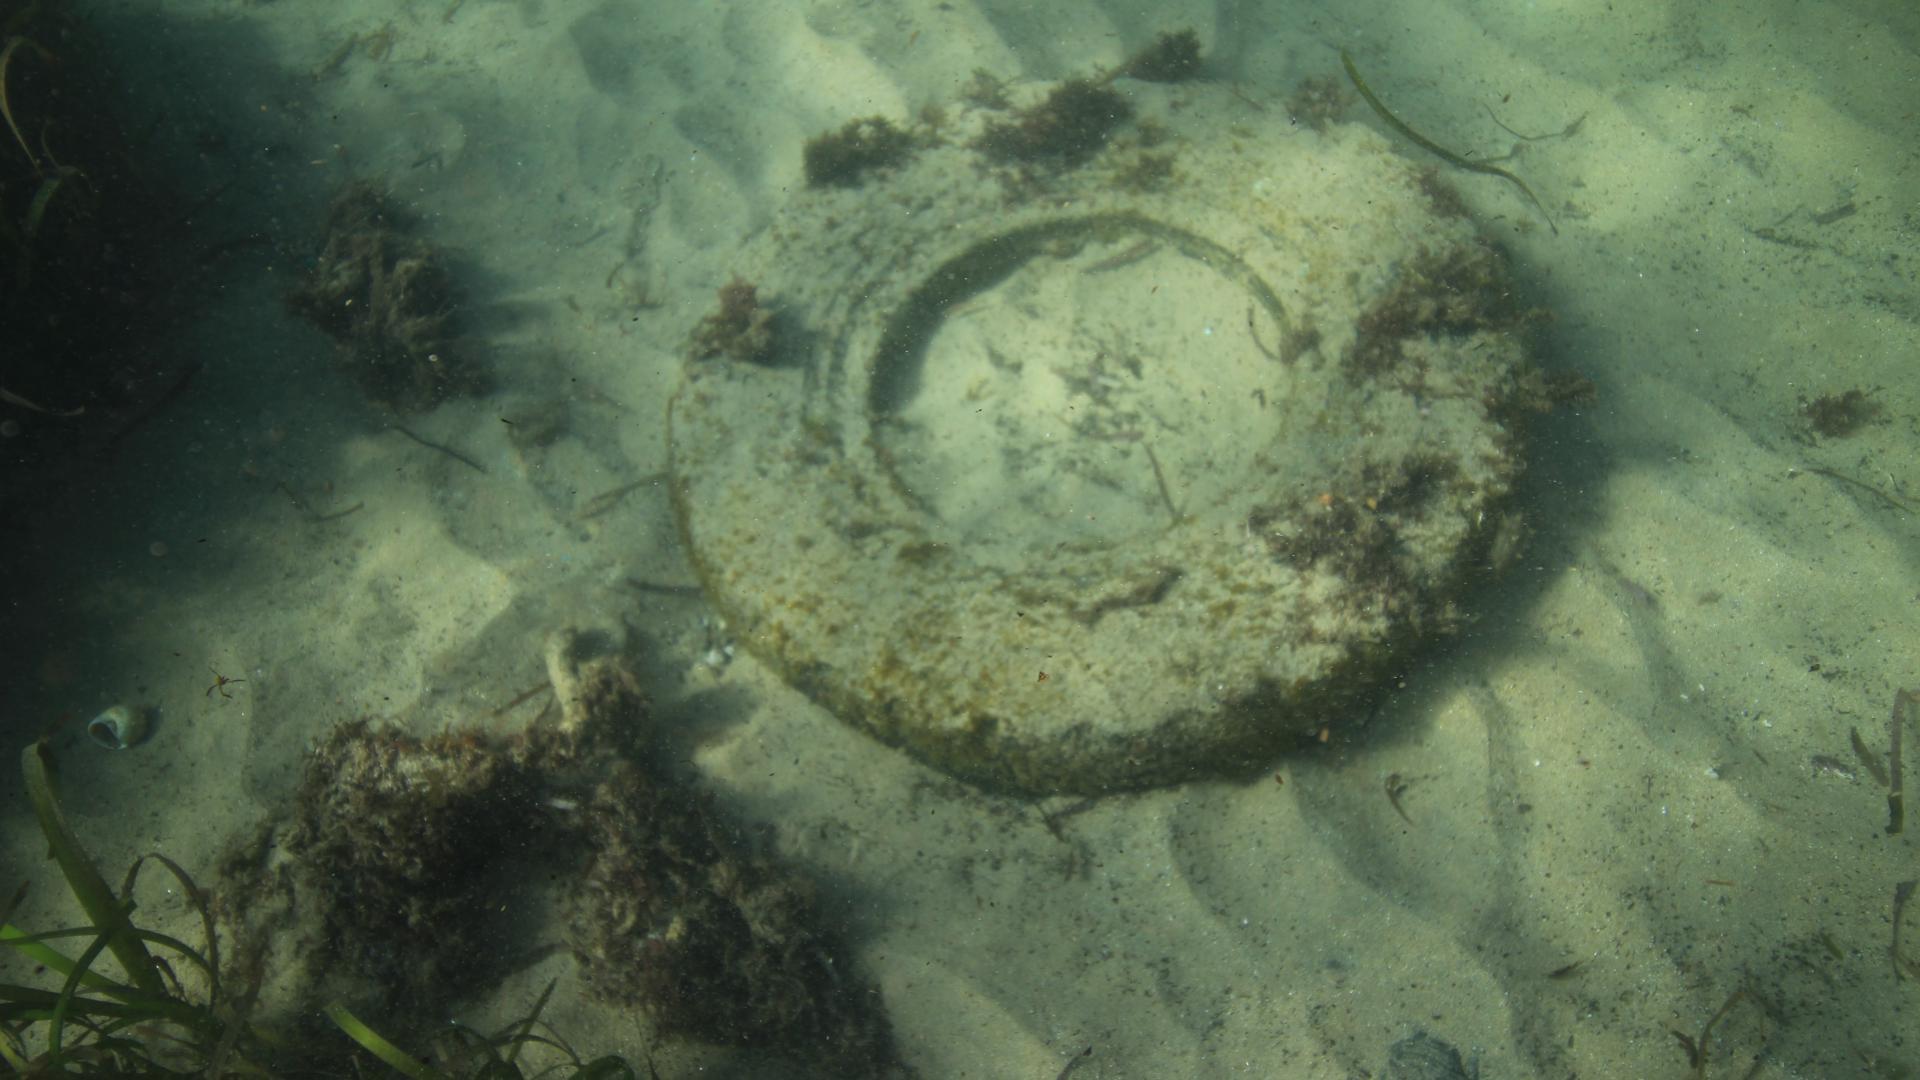tire: (665, 74, 1530, 790)
